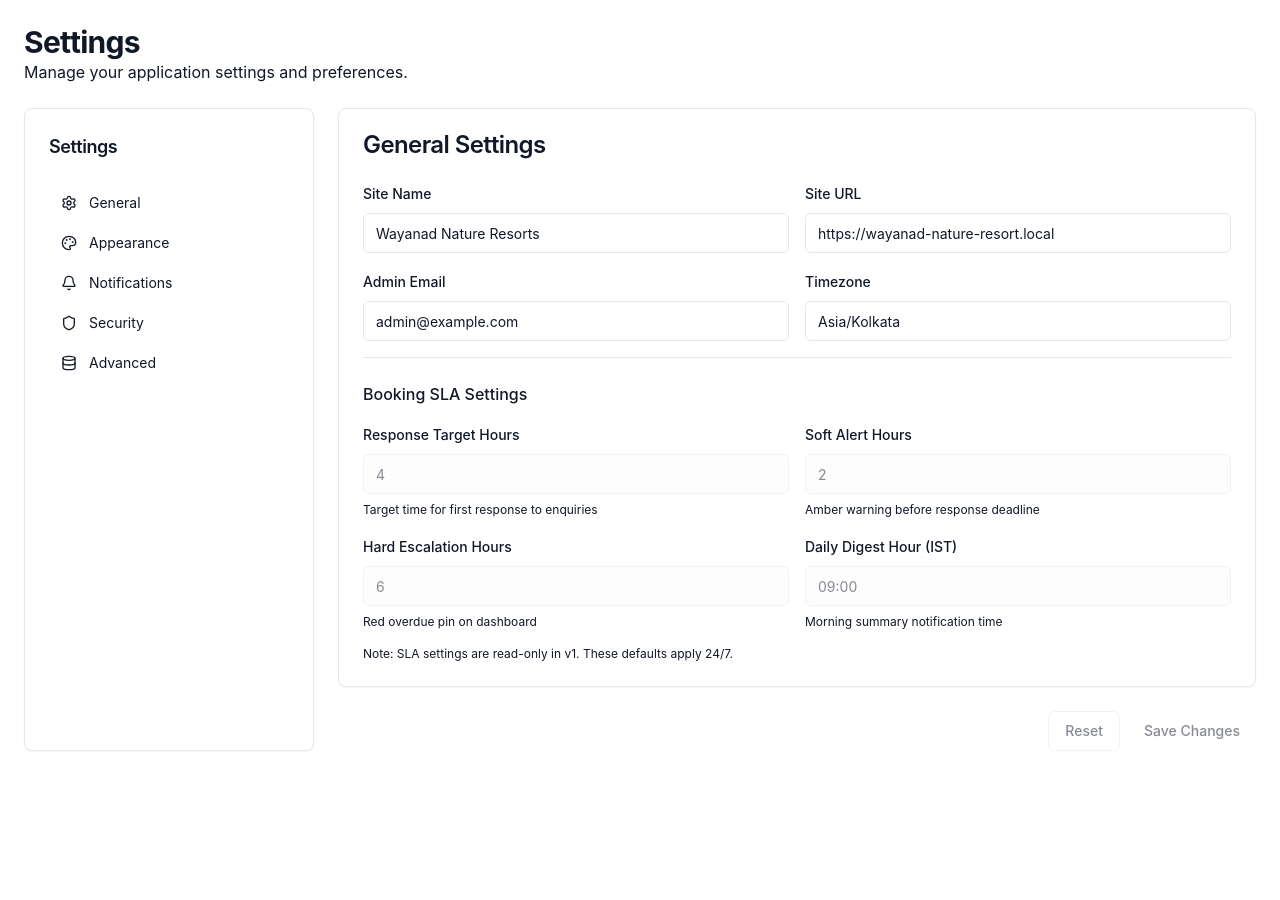
Test case: SettingsPage › resets changes when reset button is clicked
Expected: the heading "General Settings" is shown, [363, 130, 546, 159]
Replace the text in the field labelled "Site Name" with "A temporary change" at (576, 233), box [363, 213, 789, 253]
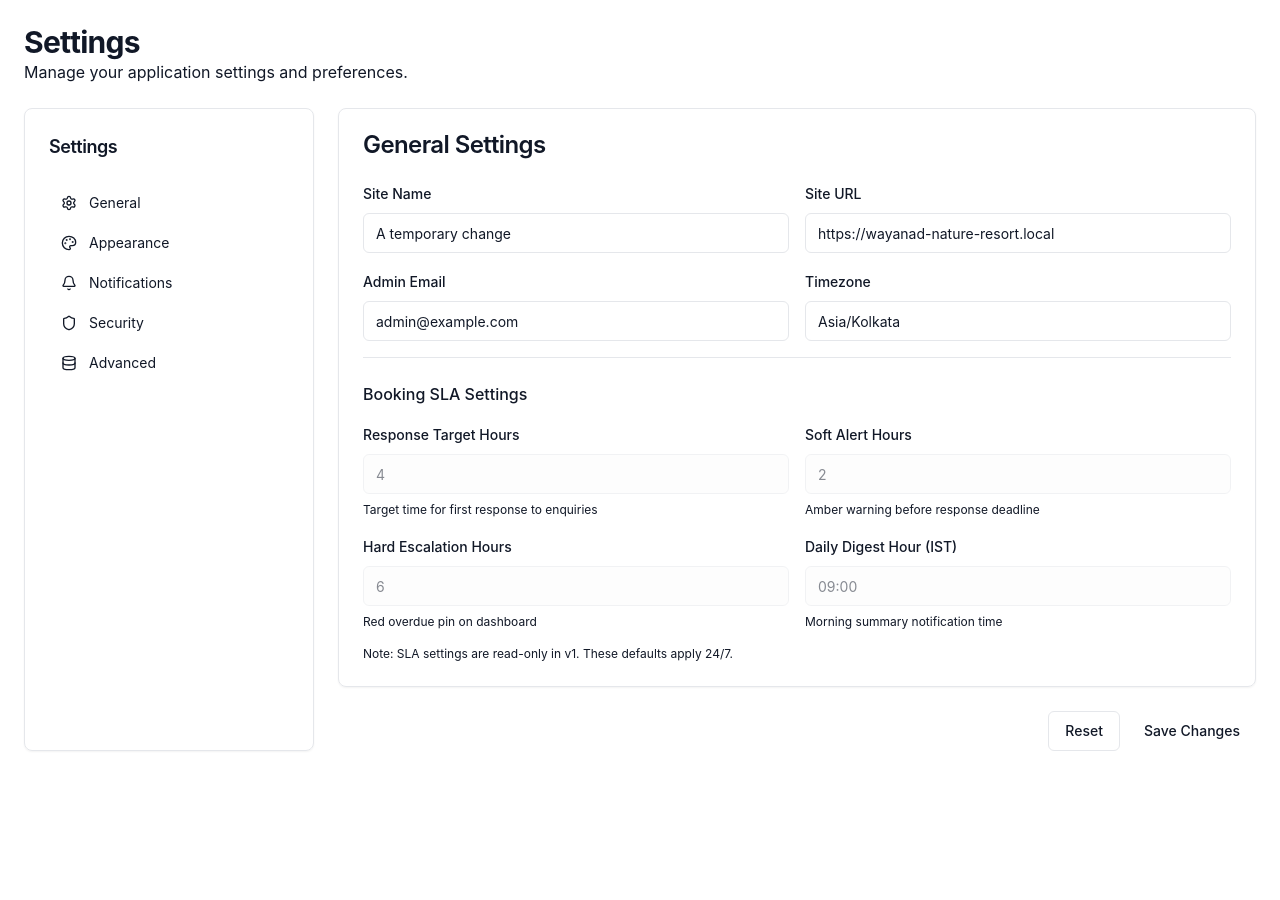
Click the button "Reset" at (1084, 731), box [1048, 711, 1120, 751]
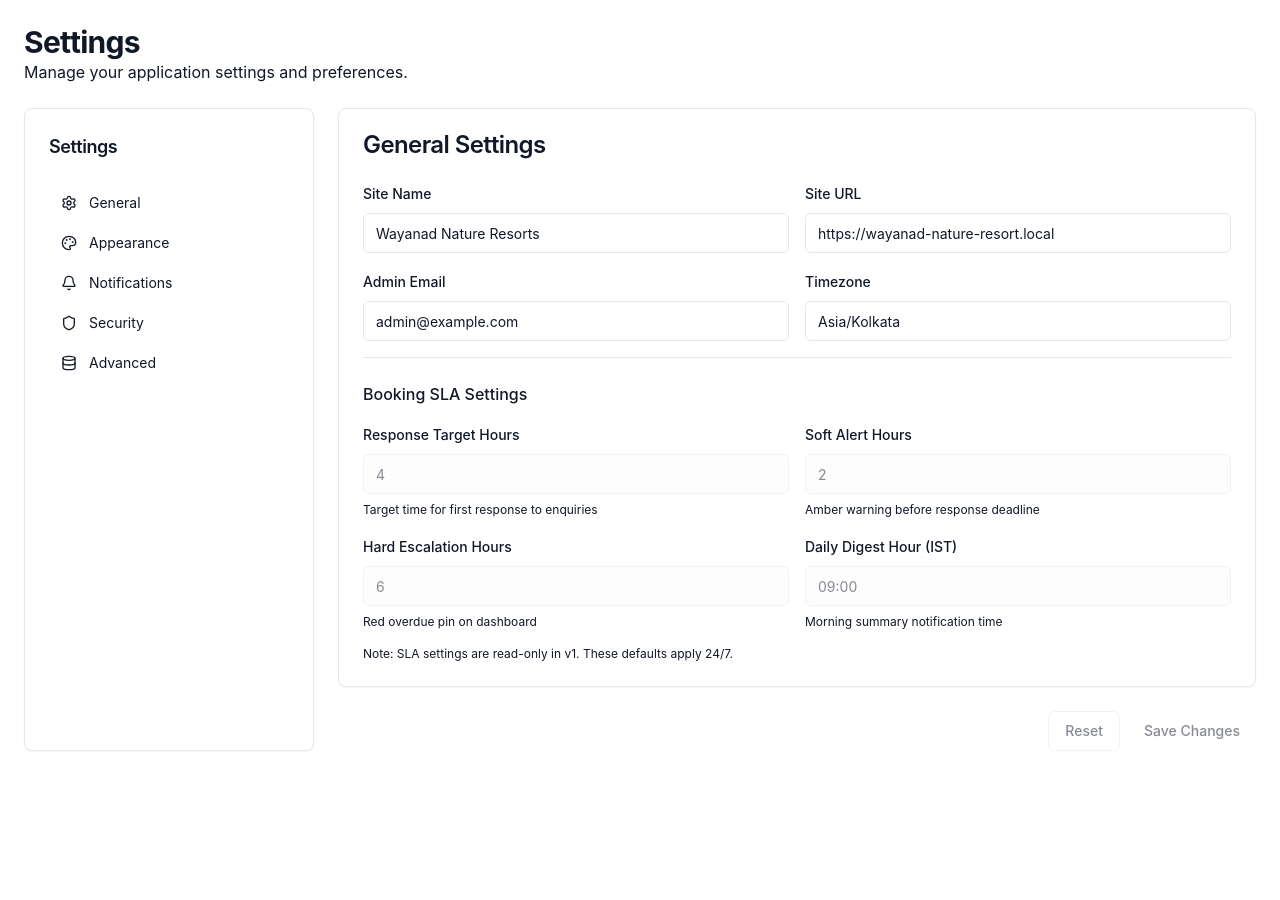
Now the field labelled "Site Name" holds "Wayanad Nature Resorts", box [363, 213, 789, 253]
Now the button "Save Changes" is disabled, box [1128, 711, 1256, 751]
